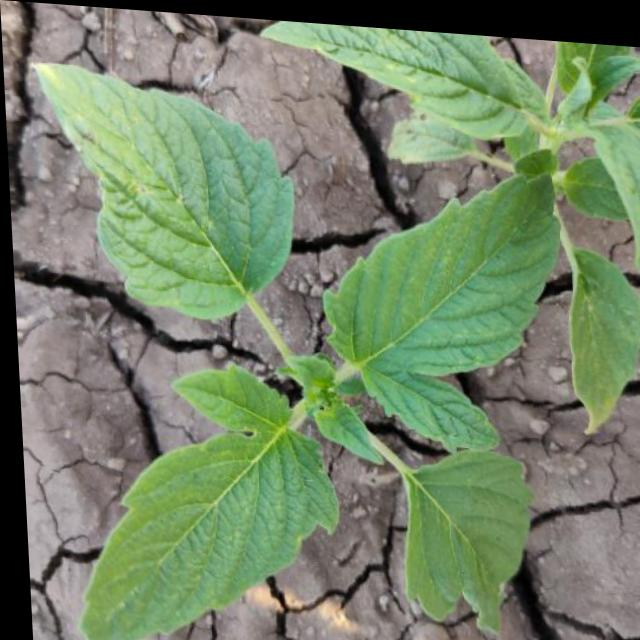crop: (14, 60, 604, 640)
